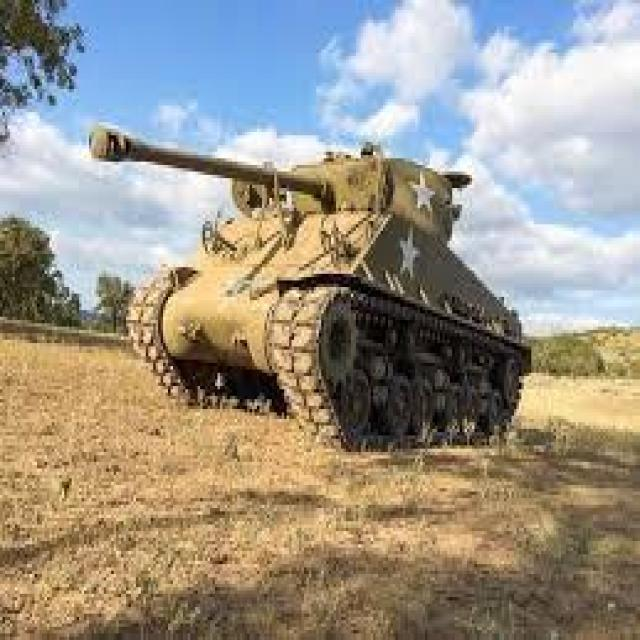Tanks: (84, 112, 539, 459)
